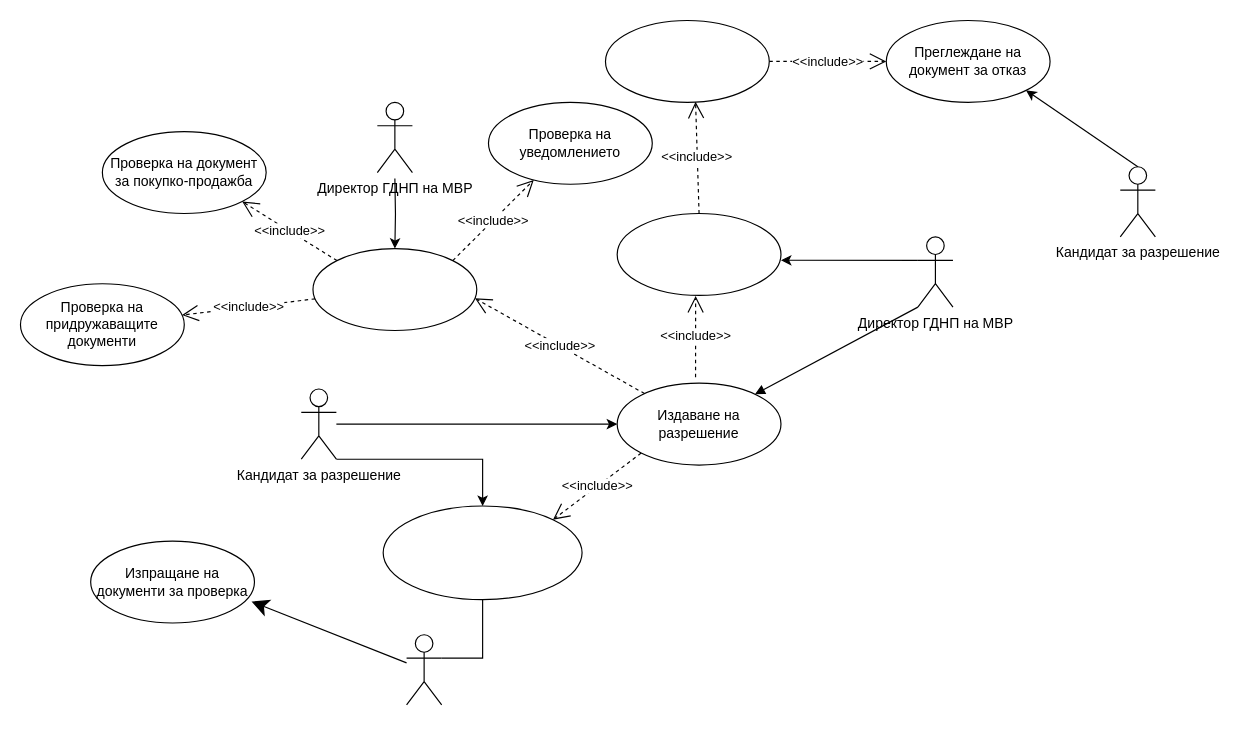
The diagram is 1240 pixels wide and 750 high, and some of its shapes have lost their labels. The centre of each missing label's shape, as x and y in pixels:
Издаване на електронен документ за отказ: the point at 686,60
Отказ за издаване на разрешение: the point at 698,253
Подаване на уведомлнеие с придружаващите го документи: the point at 482,552
Портал за административни е-услуги: the point at 423,669
Проверка на уведомлнеието и придружаващите го документи: the point at 394,289
